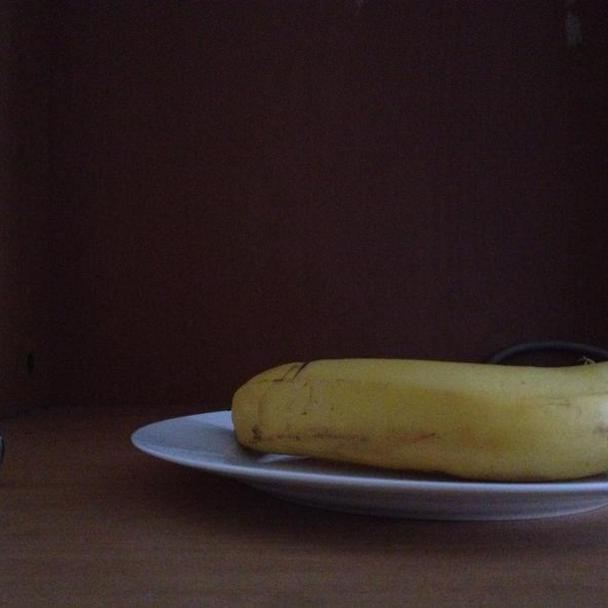banana: (228, 350, 608, 479)
